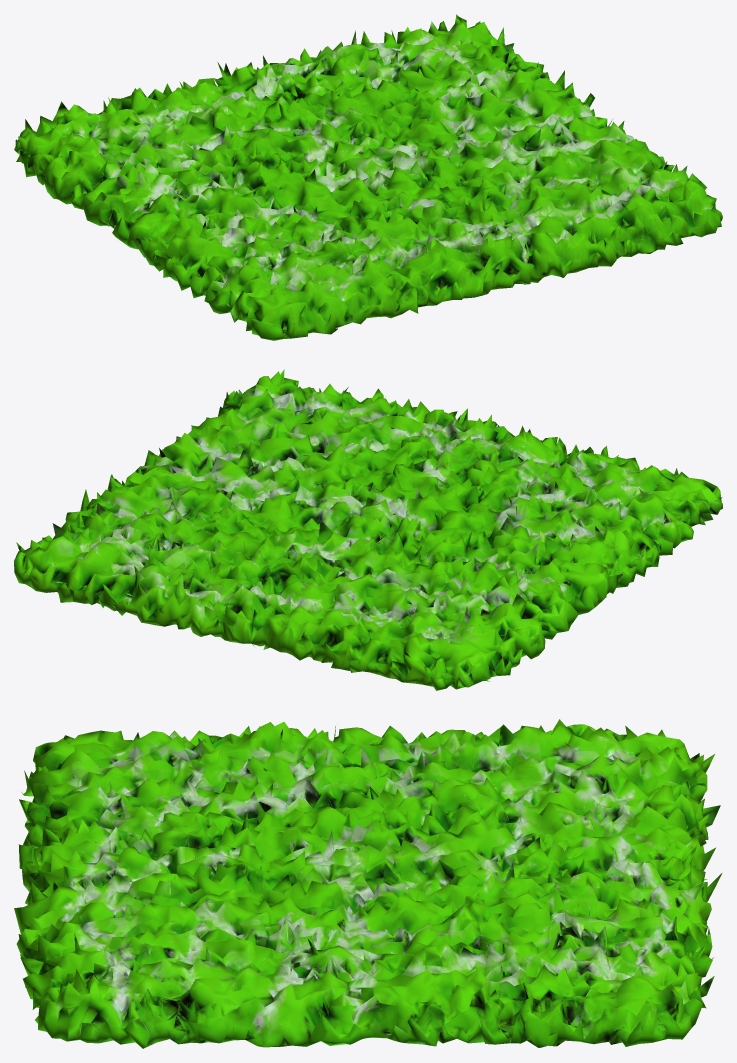
The model's file is halfway_line.glb.
The picture shows the model from 3 angles, top to bottom: view 1: azimuth 30°, elevation 25°; view 2: azimuth 150°, elevation 25°; view 3: azimuth 270°, elevation 25°; orthographic projection. The views are drawn at different scales.
Size of the model in its own units: 1.86 by 0.1737 by 1.85.
Materials: 1 (1 with a texture image).
